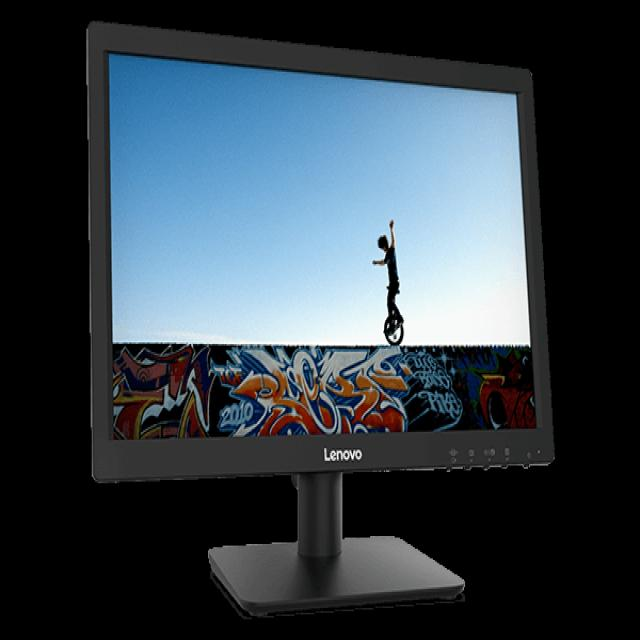monitor: (82, 12, 562, 628)
